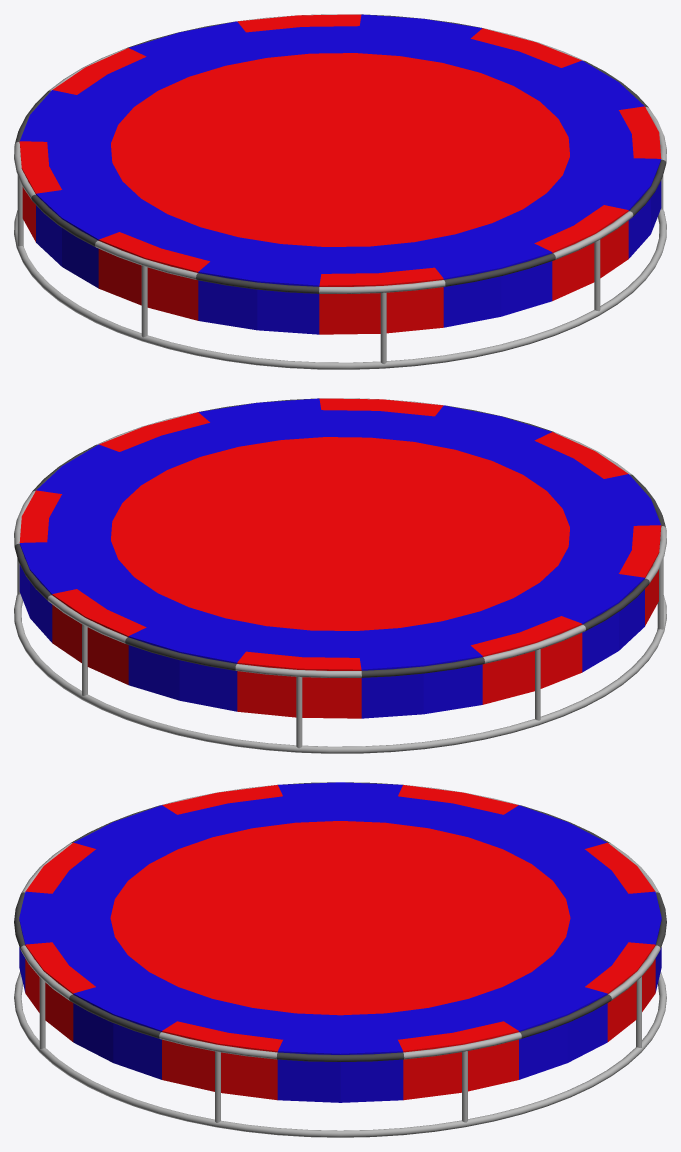
File: Trampoline001.fbx
3 views of the same model, one above another, from view 1: azimuth 30°, elevation 25°; view 2: azimuth 150°, elevation 25°; view 3: azimuth 270°, elevation 25° (orthographic).
Parts seen in each view (by area): view 1: BouncingSurface, Railing001, Railing002, Railing003; view 2: BouncingSurface, Railing001, Railing002, Railing003; view 3: BouncingSurface, Railing001, Railing002, Railing003.
Boxes of the visible parts, box(x1,y1,x2,y2) form: BouncingSurface: box(19, 14, 661, 334); Railing001: box(14, 14, 666, 293); Railing002: box(14, 209, 666, 369); Railing003: box(17, 175, 663, 364); BouncingSurface: box(19, 398, 661, 718); Railing001: box(14, 398, 666, 677); Railing002: box(14, 594, 666, 753); Railing003: box(17, 558, 663, 748); BouncingSurface: box(19, 782, 661, 1102); Railing001: box(14, 782, 666, 1061); Railing002: box(14, 971, 666, 1137); Railing003: box(39, 976, 641, 1122).
Size of the model in its own units: 222 by 31.2 by 222.
